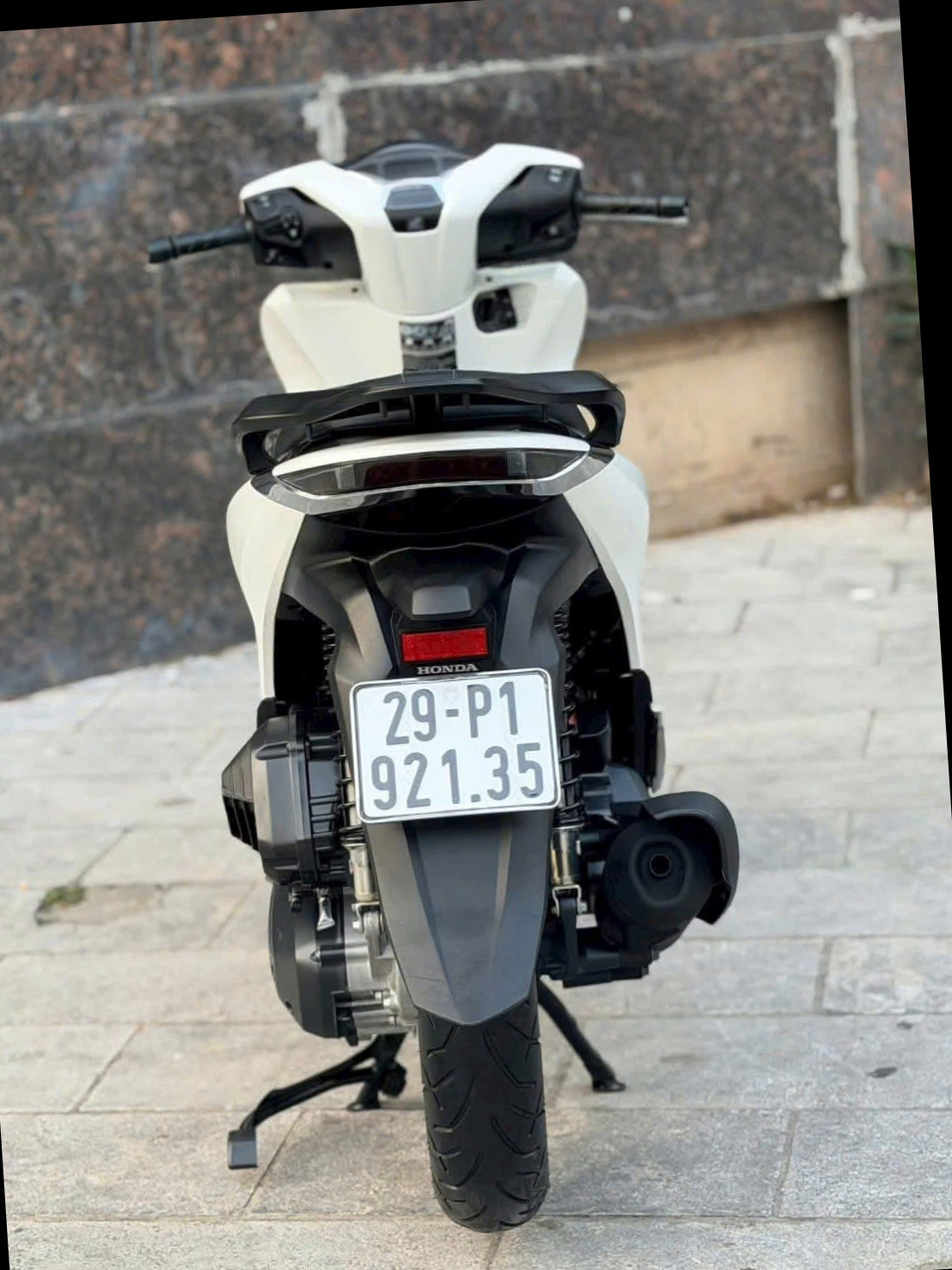Bien-so: (372, 644, 600, 811)
